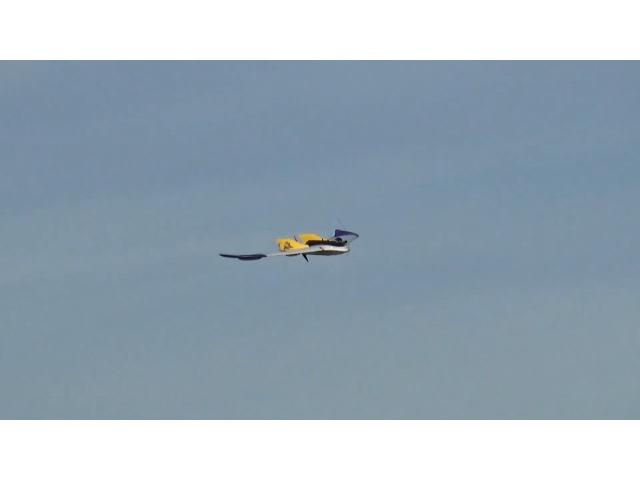Anti-Drone: (222, 228, 358, 262)
